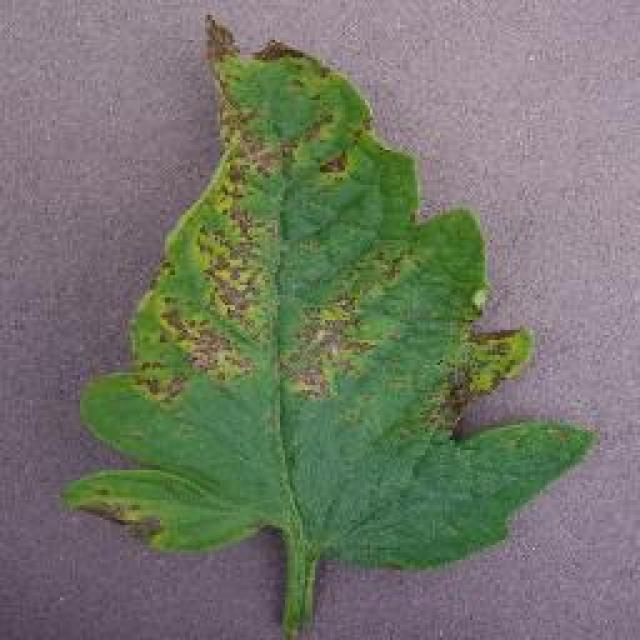Tomato Septoria spot leaf: (64, 10, 602, 572)
